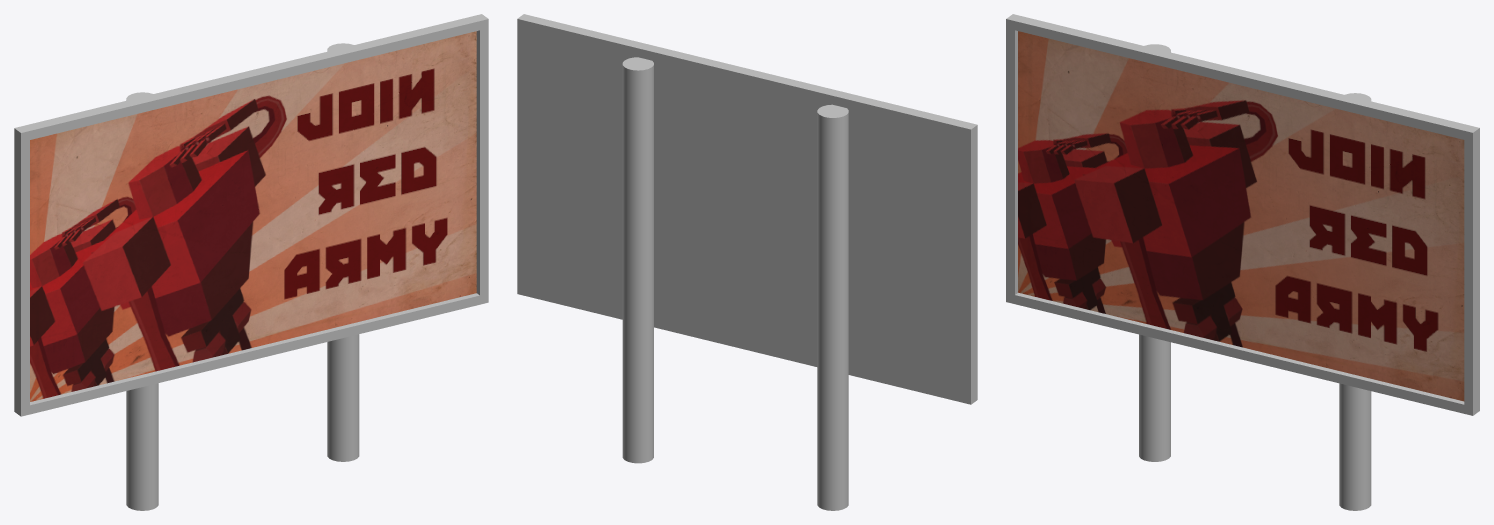
Rendered from billboard_01.FBX.
3 renders of one model, left to right at view 1: azimuth 30°, elevation 25°; view 2: azimuth 150°, elevation 25°; view 3: azimuth 330°, elevation 25°, orthographic. The views are drawn at different scales.
Parts seen in each view (by area): view 1: billboard; view 2: billboard; view 3: billboard.
Boxes of the visible parts, <box> form: billboard: <box>14,14,488,510</box>; billboard: <box>517,14,977,510</box>; billboard: <box>1006,14,1479,510</box>.
Bounding box in the file's own units: 260 × 220 × 21.02.
Materials: 2 (1 with a texture image).
